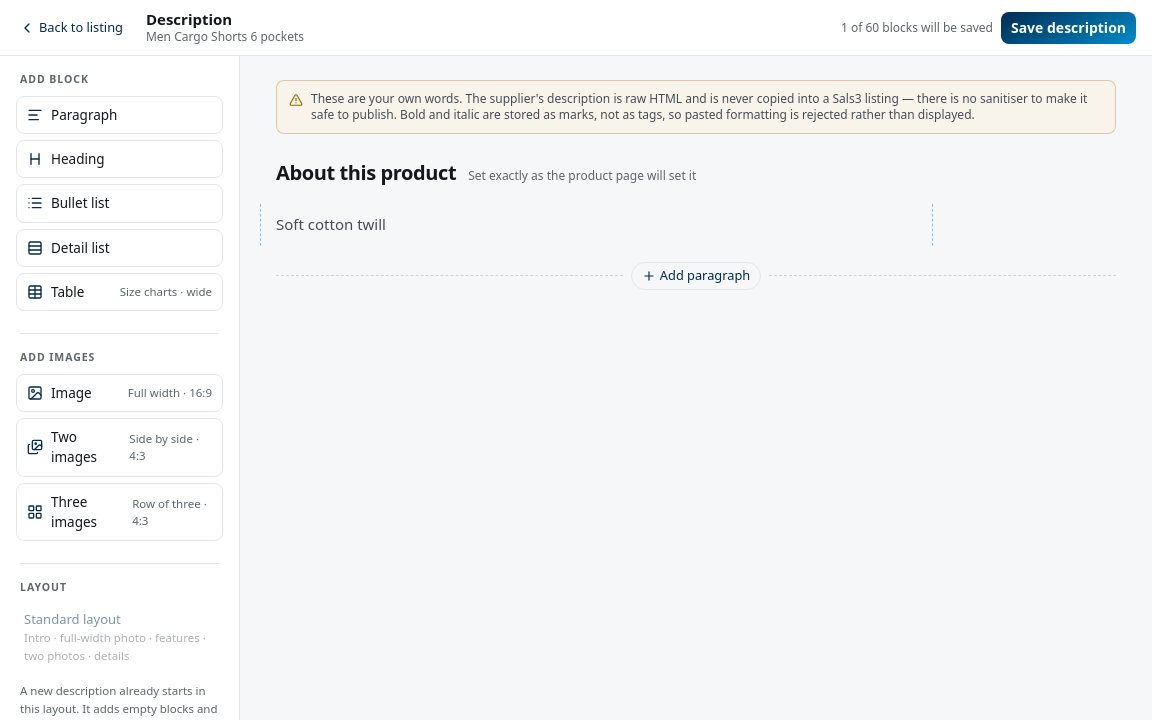
Test: Description studio - paragraph emphasis › disables the mark buttons for a caret, which has no range to emphasise
The width and height of the screenshot is (1152, 720).
Click the text "Soft cotton twill".
click(331, 224)  # box [276,214,386,234]
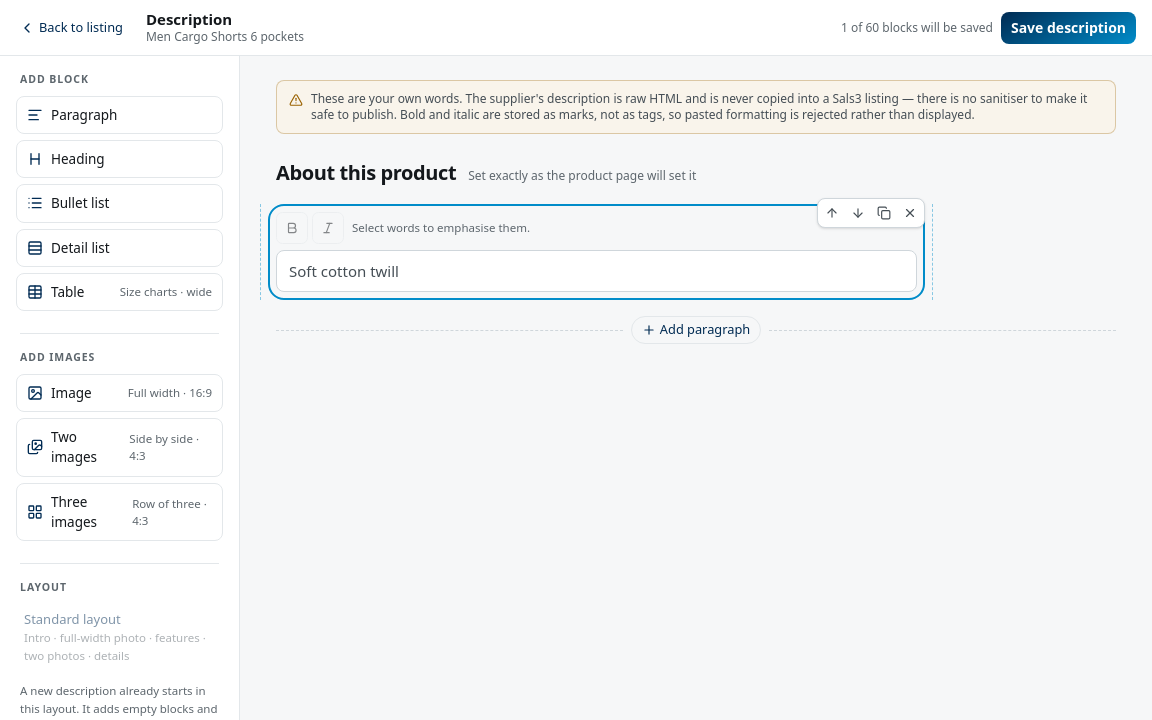
Result: the button named "Bold" is disabled at [276,212,308,244]
